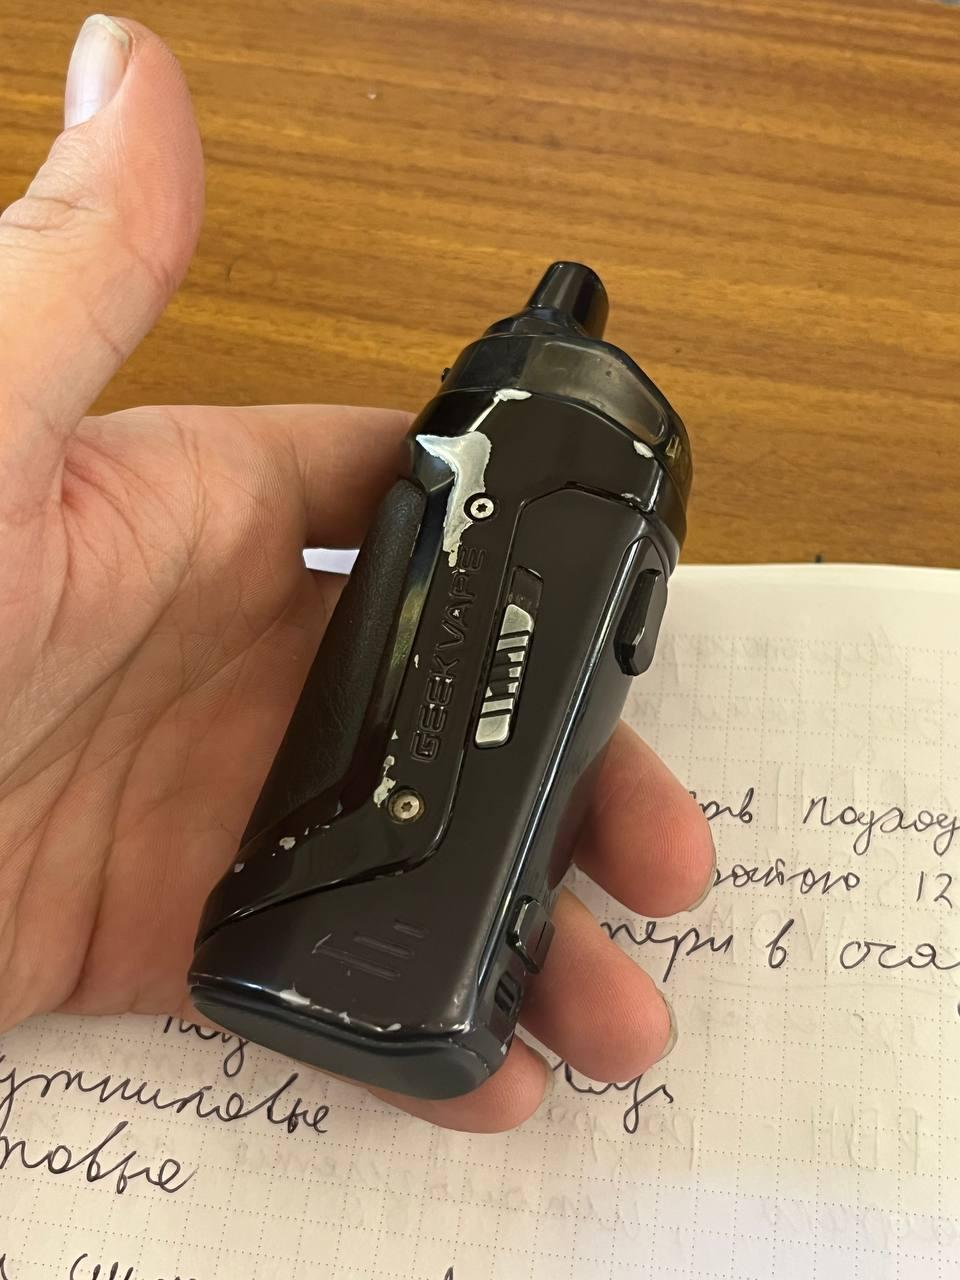Vape: (190, 262, 691, 1099)
